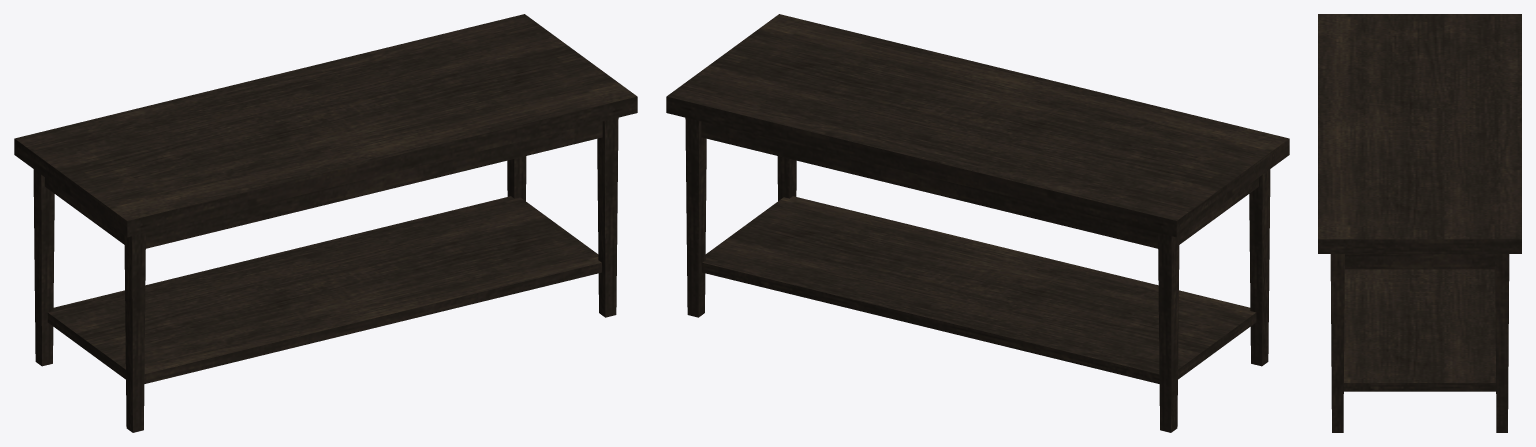
Rendered from coffee_table_1_2.fbx.
3 views of the same model, side by side, from view 1: azimuth 30°, elevation 25°; view 2: azimuth 150°, elevation 25°; view 3: azimuth 270°, elevation 25° (orthographic). The views are drawn at different scales.
Visible parts, largest first — view 1: coffee_table_1_2; view 2: coffee_table_1_2; view 3: coffee_table_1_2.
Part boxes in pixels (bbox=[...]): coffee_table_1_2: bbox=[14, 14, 637, 432]; coffee_table_1_2: bbox=[666, 14, 1289, 432]; coffee_table_1_2: bbox=[1318, 14, 1521, 432].
Size of the model in its own units: 1.62 by 0.62 by 0.67.
